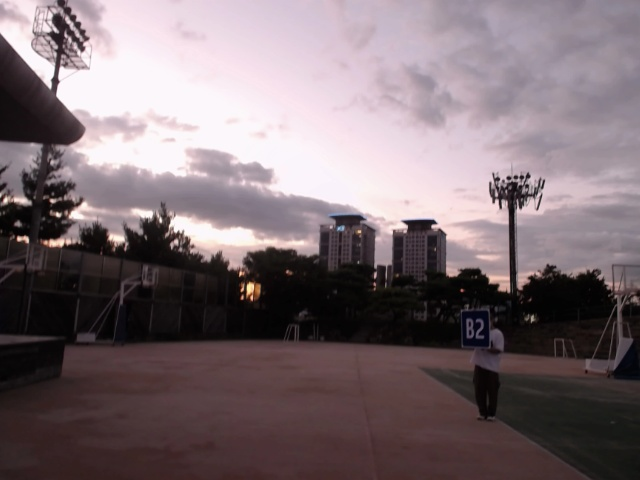delivery_b2: (460, 308, 491, 348)
